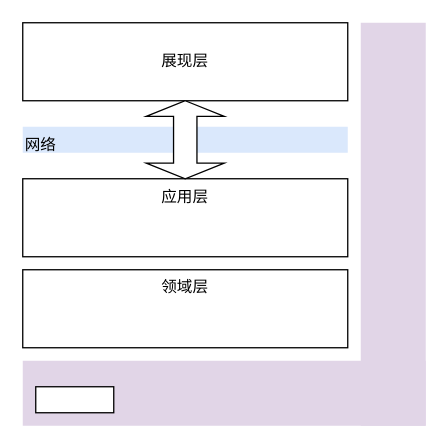
Image size: 448x448. Some labels were removed from this diagram. Each missing label, with the centre of its shape:
基 础 设 施 层: point 392,223
数据库: point 74,399
